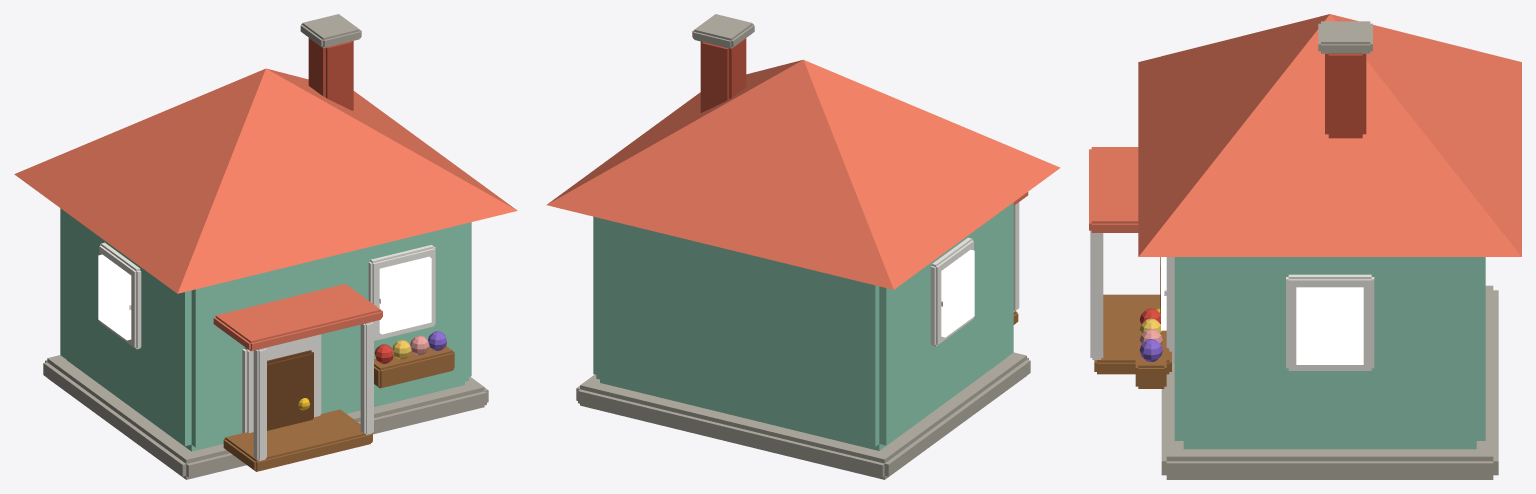
File: house_mint.glb
3 renders of one model, left to right at view 1: azimuth 30°, elevation 25°; view 2: azimuth 150°, elevation 25°; view 3: azimuth 270°, elevation 25°, orthographic. The views are drawn at different scales.
Parts seen in each view (by area): view 1: house_mint; view 2: house_mint; view 3: house_mint.
Boxes of the visible parts, x1=… form: house_mint: x1=14, y1=14, x2=517, y2=479; house_mint: x1=546, y1=14, x2=1060, y2=479; house_mint: x1=1089, y1=14, x2=1521, y2=479.
Size of the model in its own units: 1.78 by 1.72 by 1.67.
